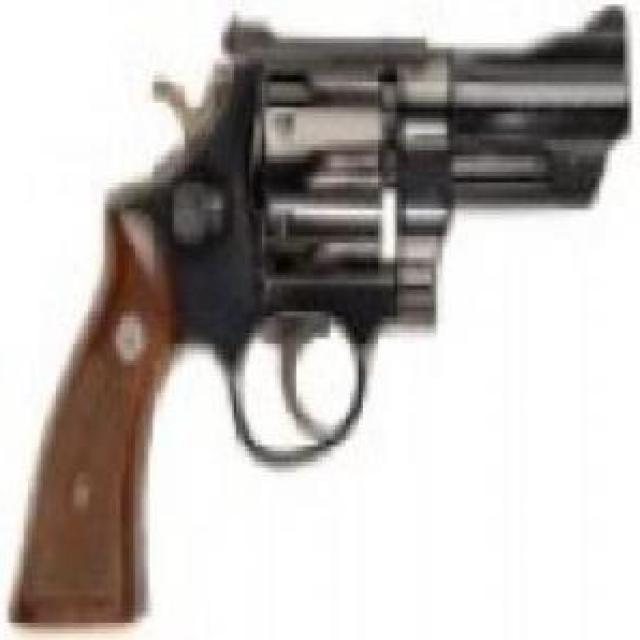pistol: (8, 11, 632, 623)
